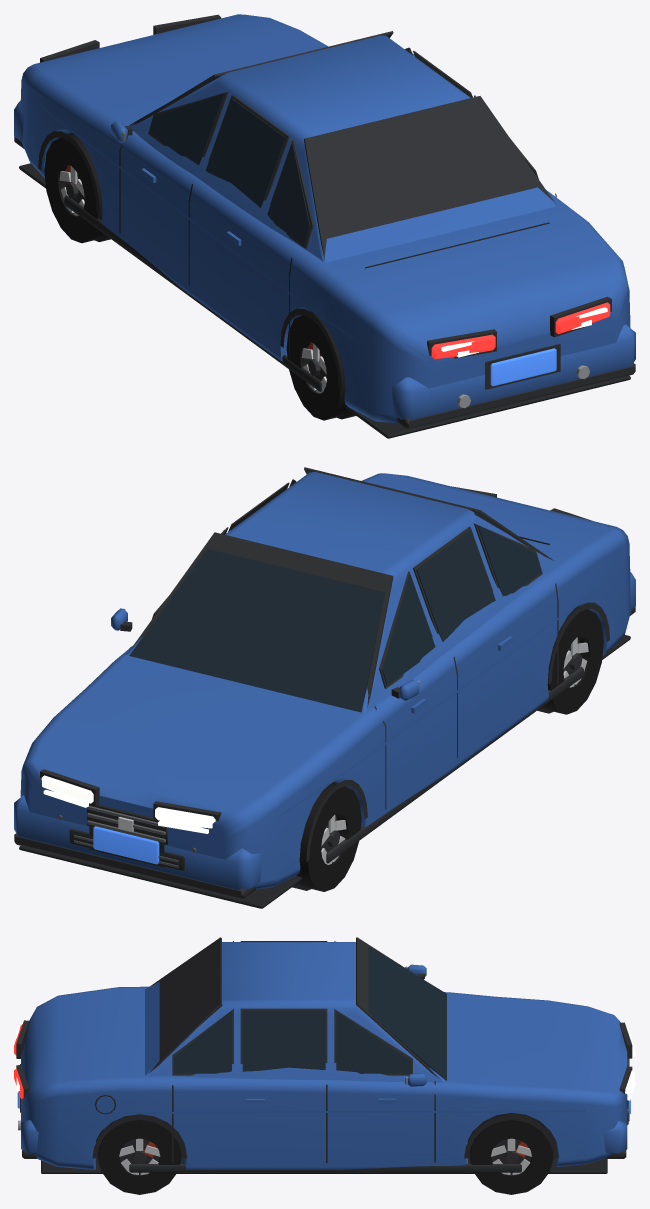
Rendered from car_sedan_standard_blue.glb.
3 renders of one model, top to bottom at view 1: azimuth 30°, elevation 25°; view 2: azimuth 150°, elevation 25°; view 3: azimuth 270°, elevation 25°, orthographic. The views are drawn at different scales.
Visible parts, largest first — view 1: Body, Trim, Glass, Wheel_FL, Wheel_RL, Lights, Plate_R; view 2: Body, Glass, Trim, Wheel_FL, Wheel_RL, Lights, Plate_F; view 3: Body, Glass, Trim, Wheel_FR, Wheel_RR, Lights.
Boxes of the visible parts, x1,y1,x2,y2 form: Body: (14, 14, 635, 423); Trim: (14, 14, 635, 438); Glass: (122, 34, 514, 245); Wheel_FL: (44, 134, 105, 243); Wheel_RL: (286, 312, 349, 420); Lights: (431, 302, 610, 359); Plate_R: (490, 348, 556, 386); Body: (14, 472, 635, 889); Glass: (124, 472, 541, 712); Trim: (14, 467, 635, 908); Wheel_FL: (296, 783, 361, 891); Wheel_RL: (542, 606, 603, 714); Lights: (41, 775, 215, 833); Plate_F: (93, 826, 159, 864); Body: (21, 942, 627, 1169); Glass: (174, 946, 446, 1084); Trim: (16, 937, 632, 1173); Wheel_FR: (470, 1113, 552, 1194); Wheel_RR: (98, 1114, 181, 1194); Lights: (14, 1024, 635, 1100).
Bounding box in the file's own units: 2.03 × 1.49 × 4.72.
